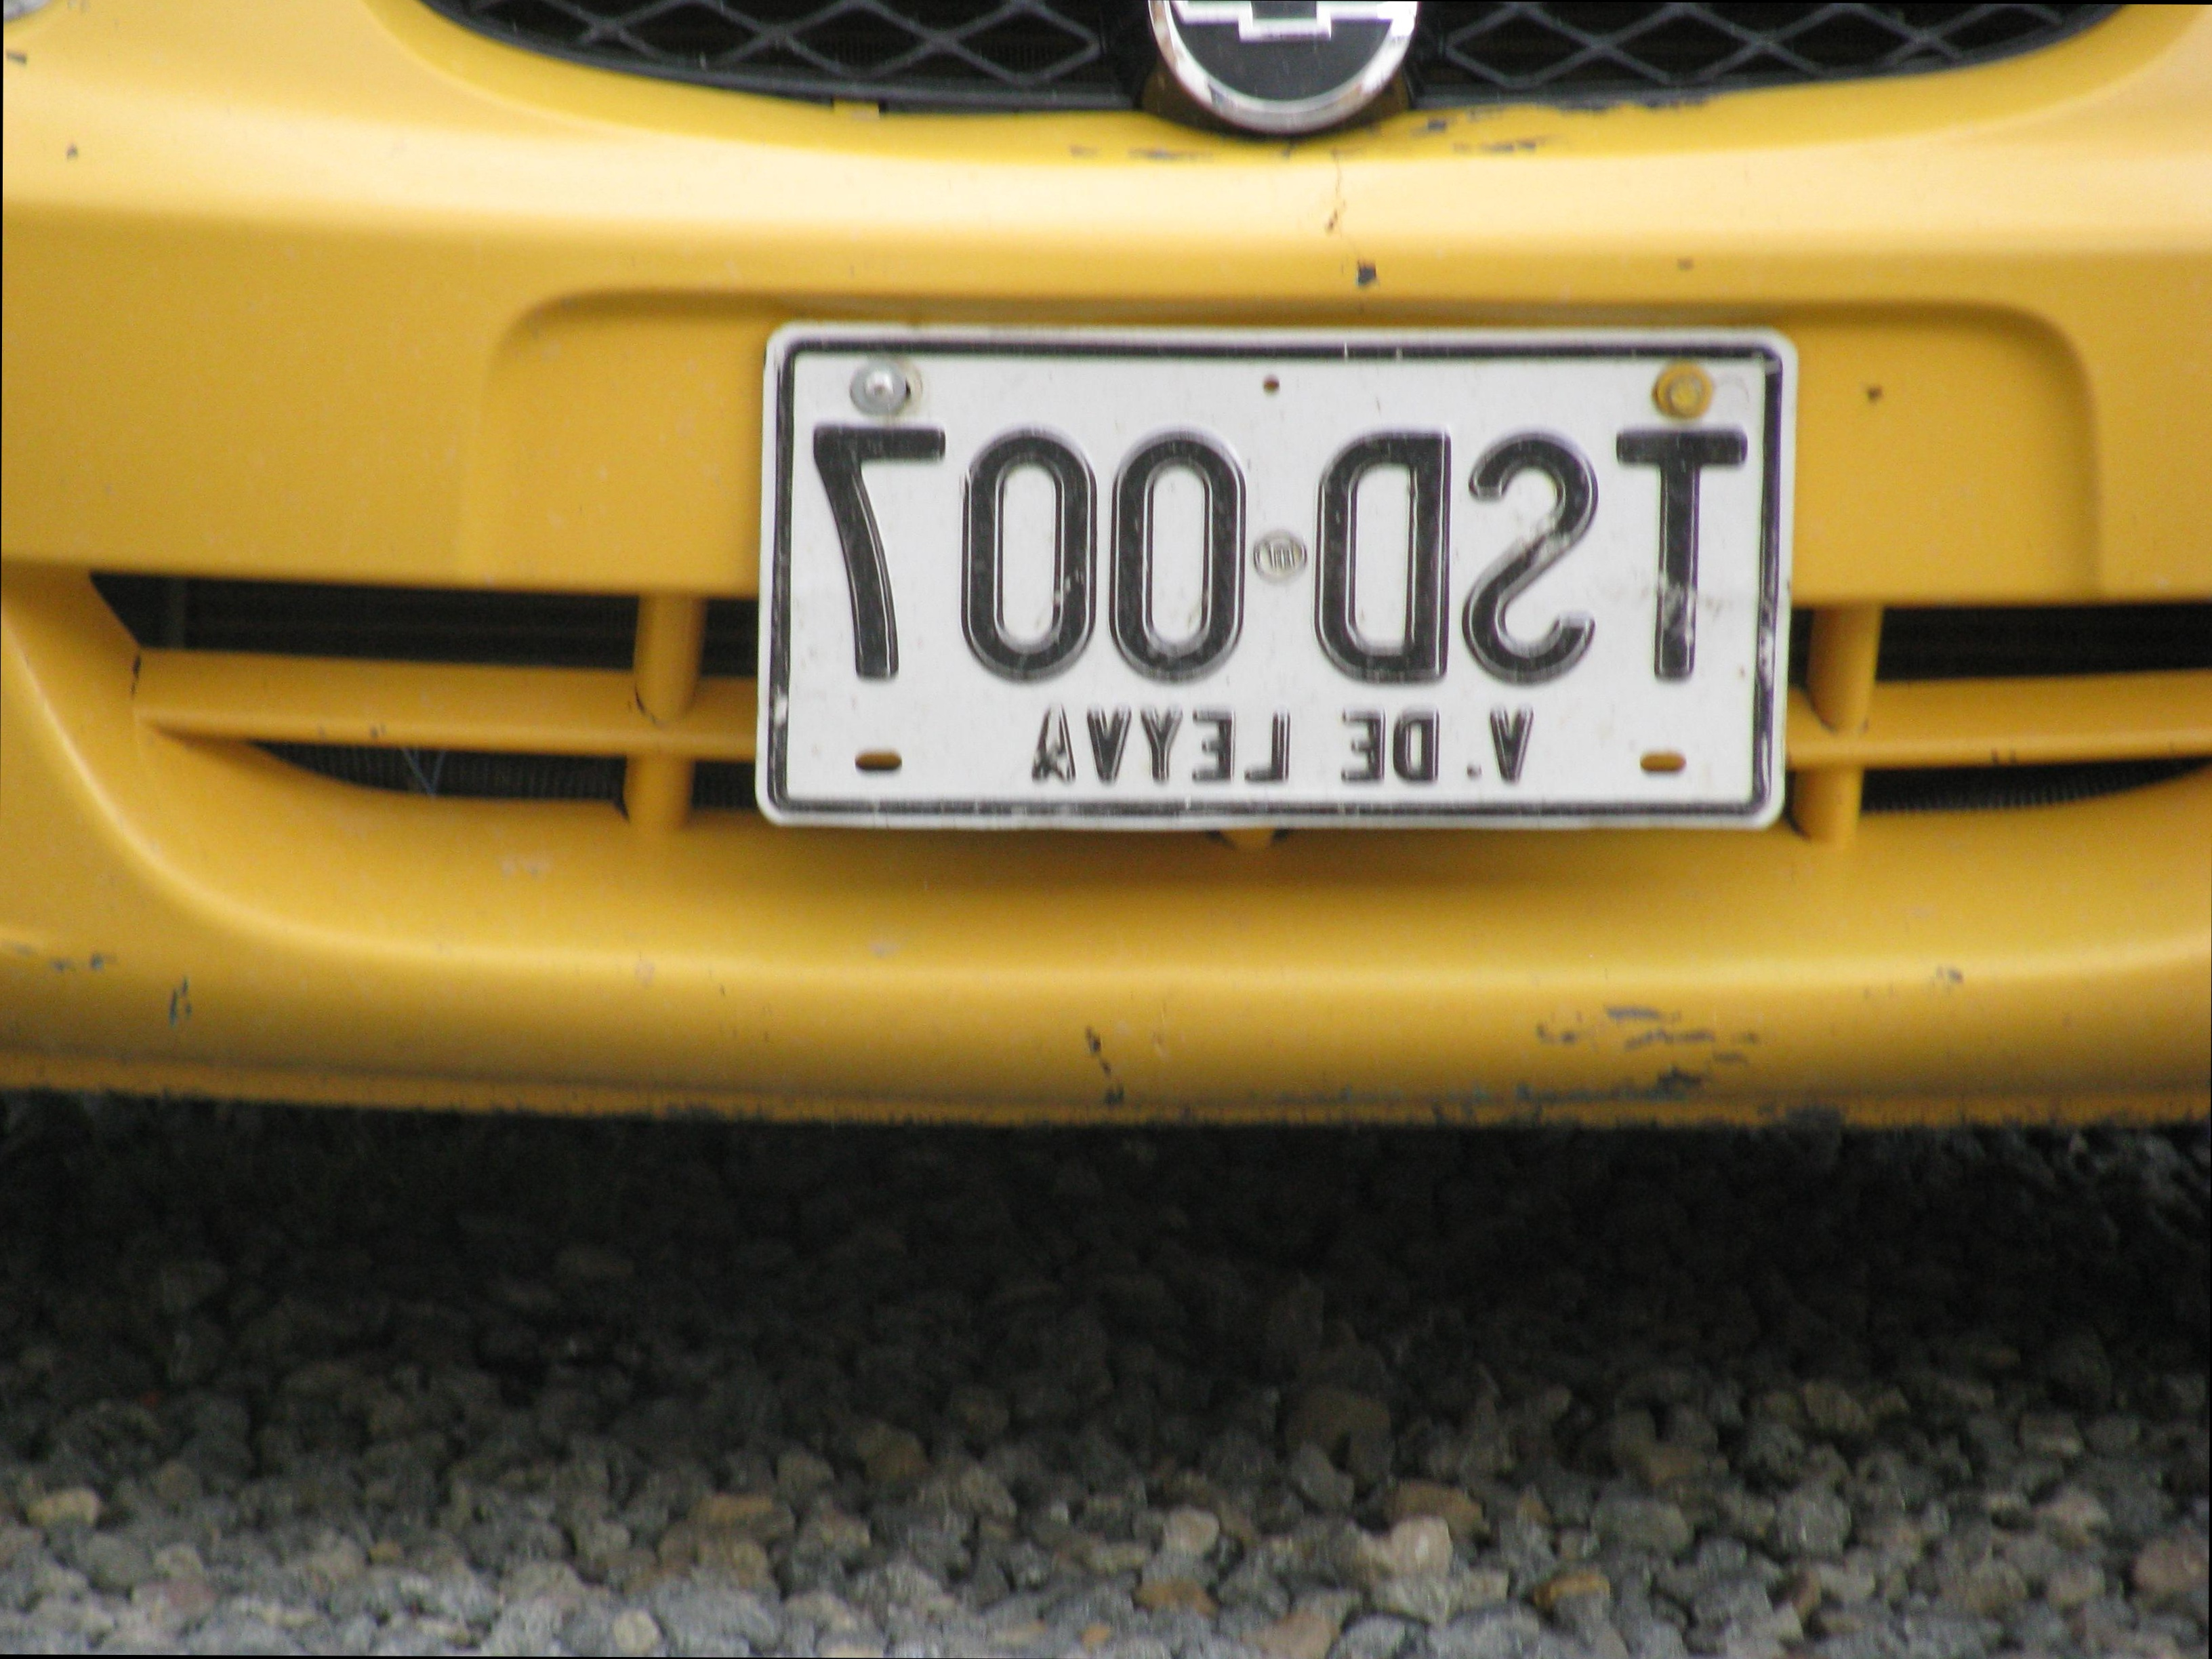placas: (749, 316, 1804, 842)
